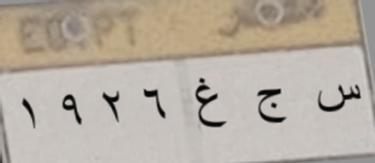1: (14, 94, 47, 136)
2: (96, 82, 130, 126)
6: (136, 84, 172, 127)
9: (57, 90, 88, 133)
ghayn: (191, 75, 230, 136)
jeem: (250, 82, 290, 131)
seen: (312, 78, 366, 118)
